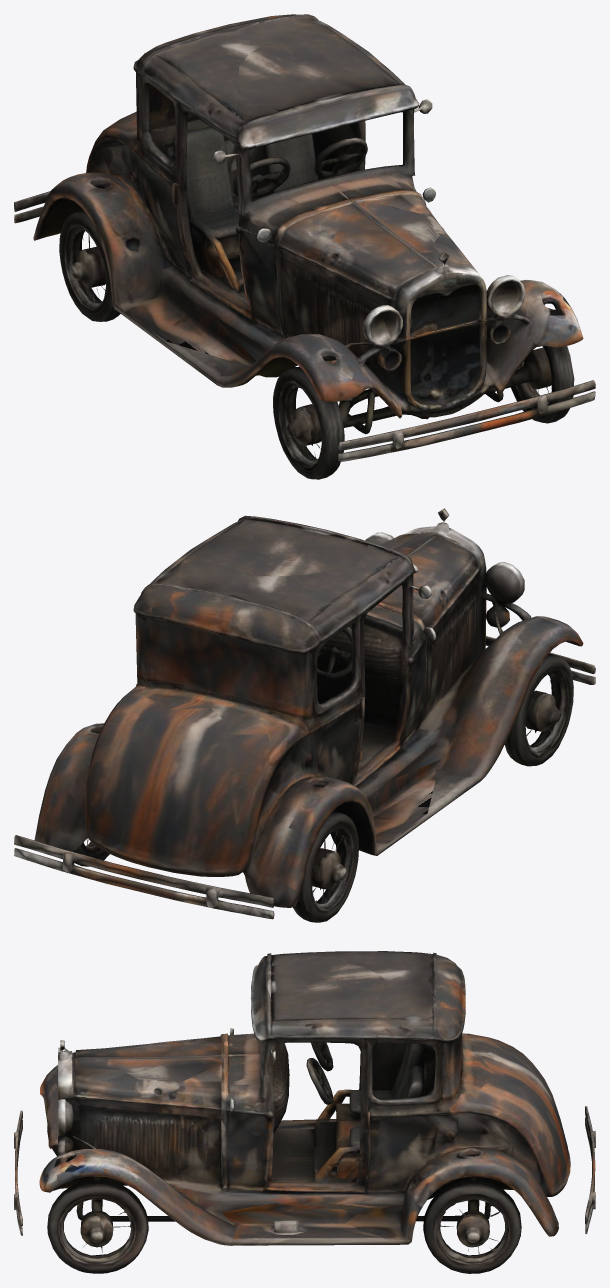
The model's file is wreck-model-a-burned.glb.
The picture shows the model from 3 angles, top to bottom: view 1: azimuth 30°, elevation 25°; view 2: azimuth 150°, elevation 25°; view 3: azimuth 270°, elevation 25°; orthographic projection. The views are drawn at different scales.
Visible parts, largest first — view 1: model; view 2: model; view 3: model.
Boxes of the visible parts, <box> form: model: <box>14,14,595,479</box>; model: <box>14,508,595,922</box>; model: <box>14,951,595,1273</box>.
Bounding box in the file's own units: 1.88 × 1.84 × 4.
Materials: 1 (1 with a texture image).
